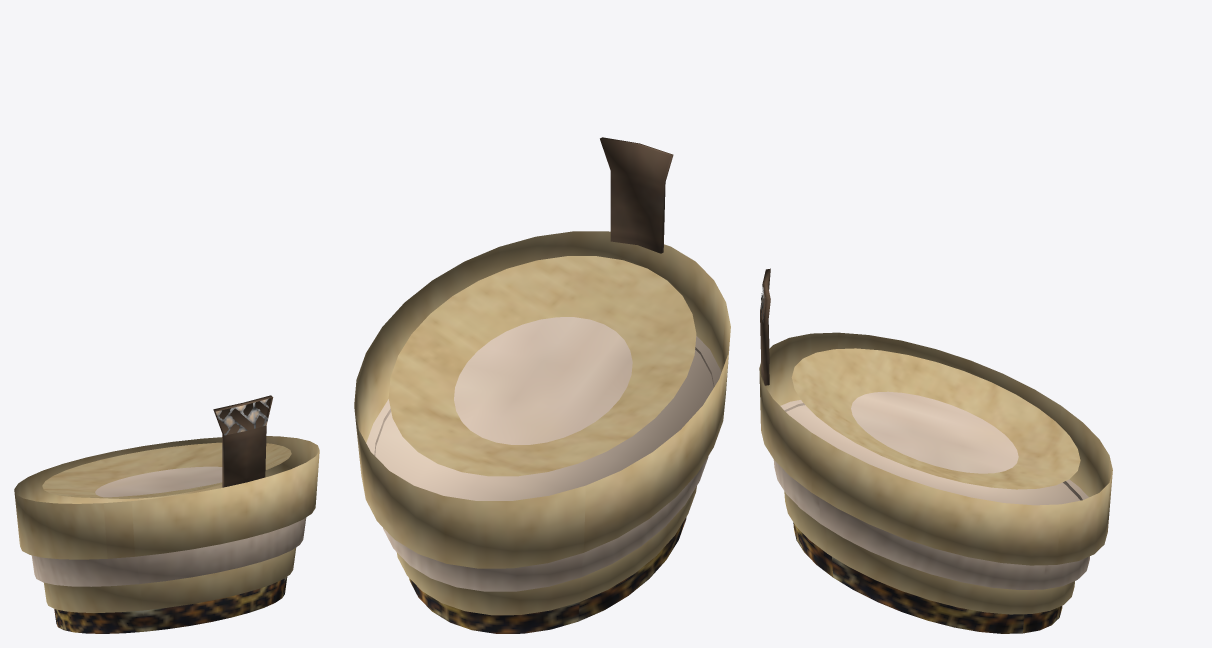
File: maya_nobre_turb_4.dae
3 renders of one model, left to right at view 1: azimuth 30°, elevation 25°; view 2: azimuth 150°, elevation 25°; view 3: azimuth 270°, elevation 25°, orthographic. The views are drawn at different scales.
Visible parts, largest first — view 1: nobre_4; view 2: nobre_4; view 3: nobre_4.
Boxes of the visible parts, x1=… form: nobre_4: x1=14, y1=395, x2=319, y2=633; nobre_4: x1=354, y1=137, x2=730, y2=633; nobre_4: x1=759, y1=268, x2=1112, y2=633.
Bounding box in the file's own units: 0.655 × 0.8686 × 1.29.
